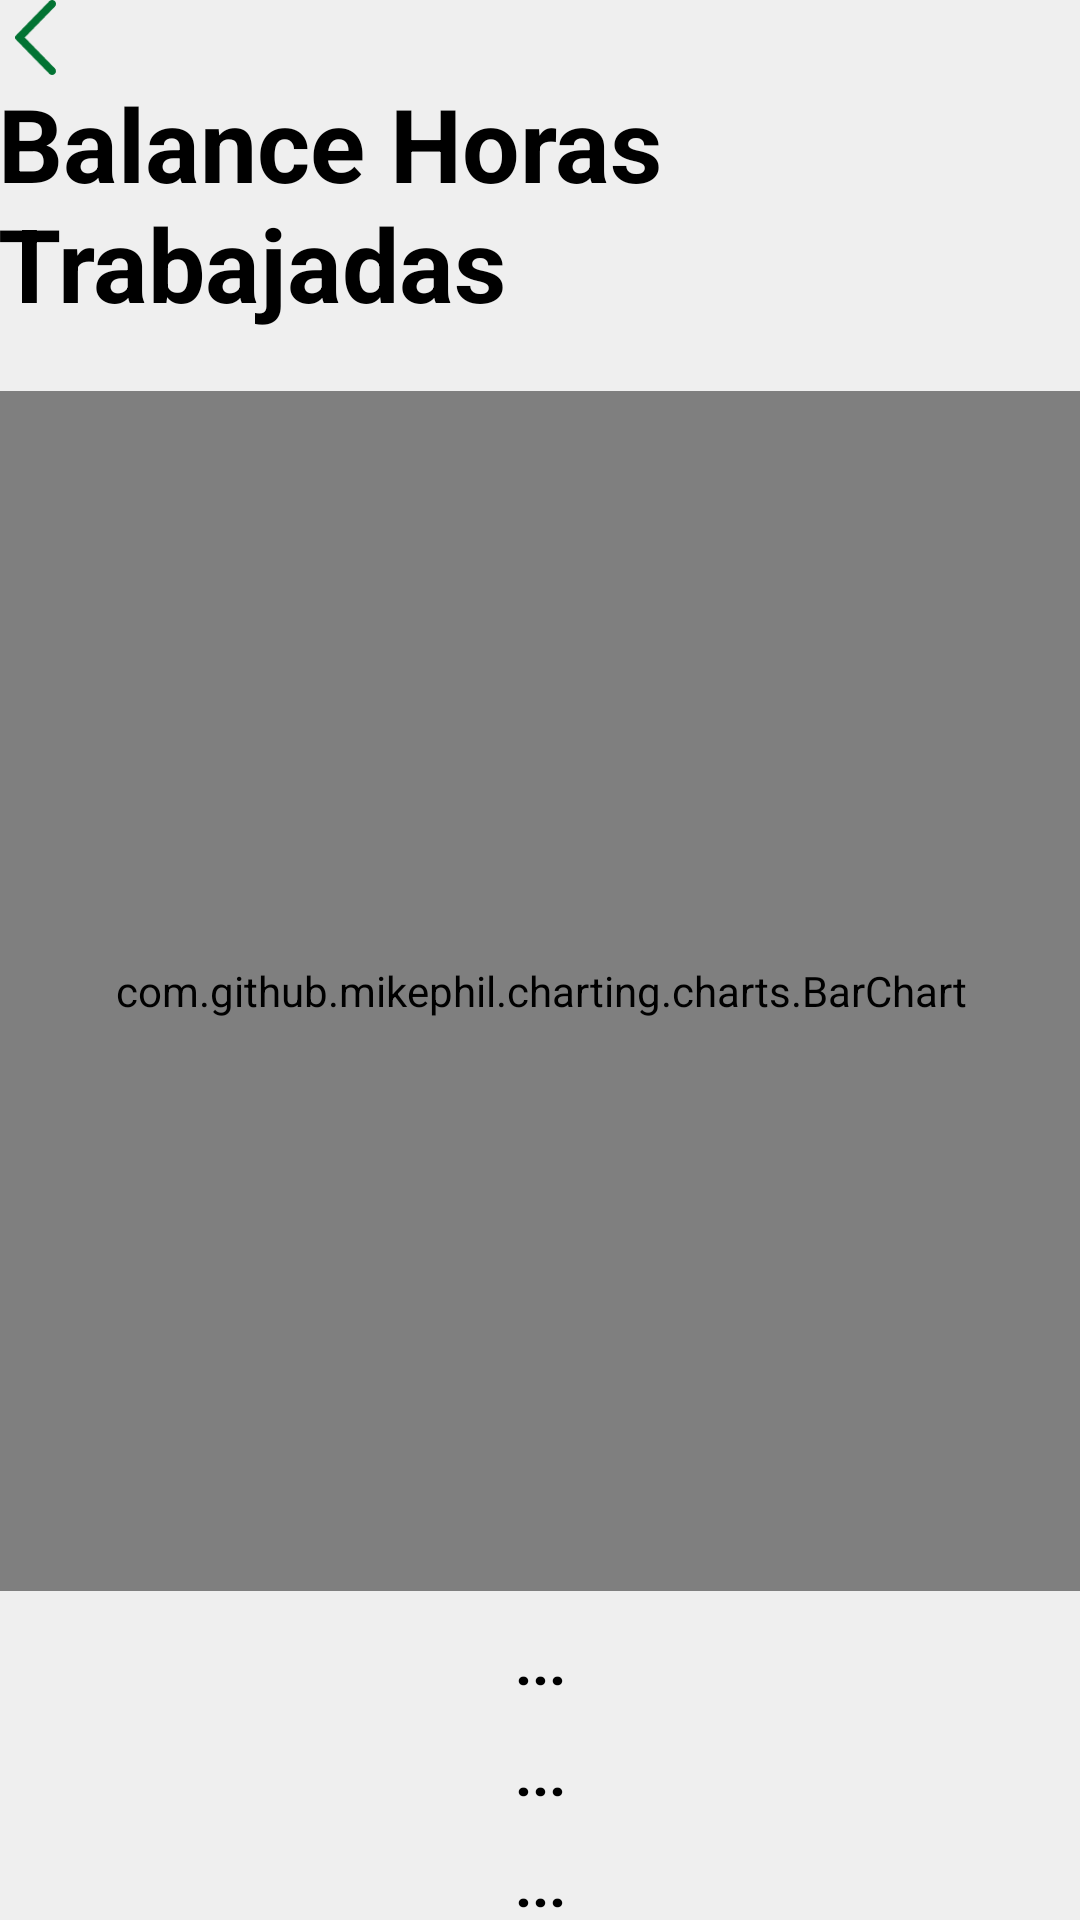

Screen size 1080 x 1920. Icon name, then its center in pixels as (x,y):
volver: (35,37)
